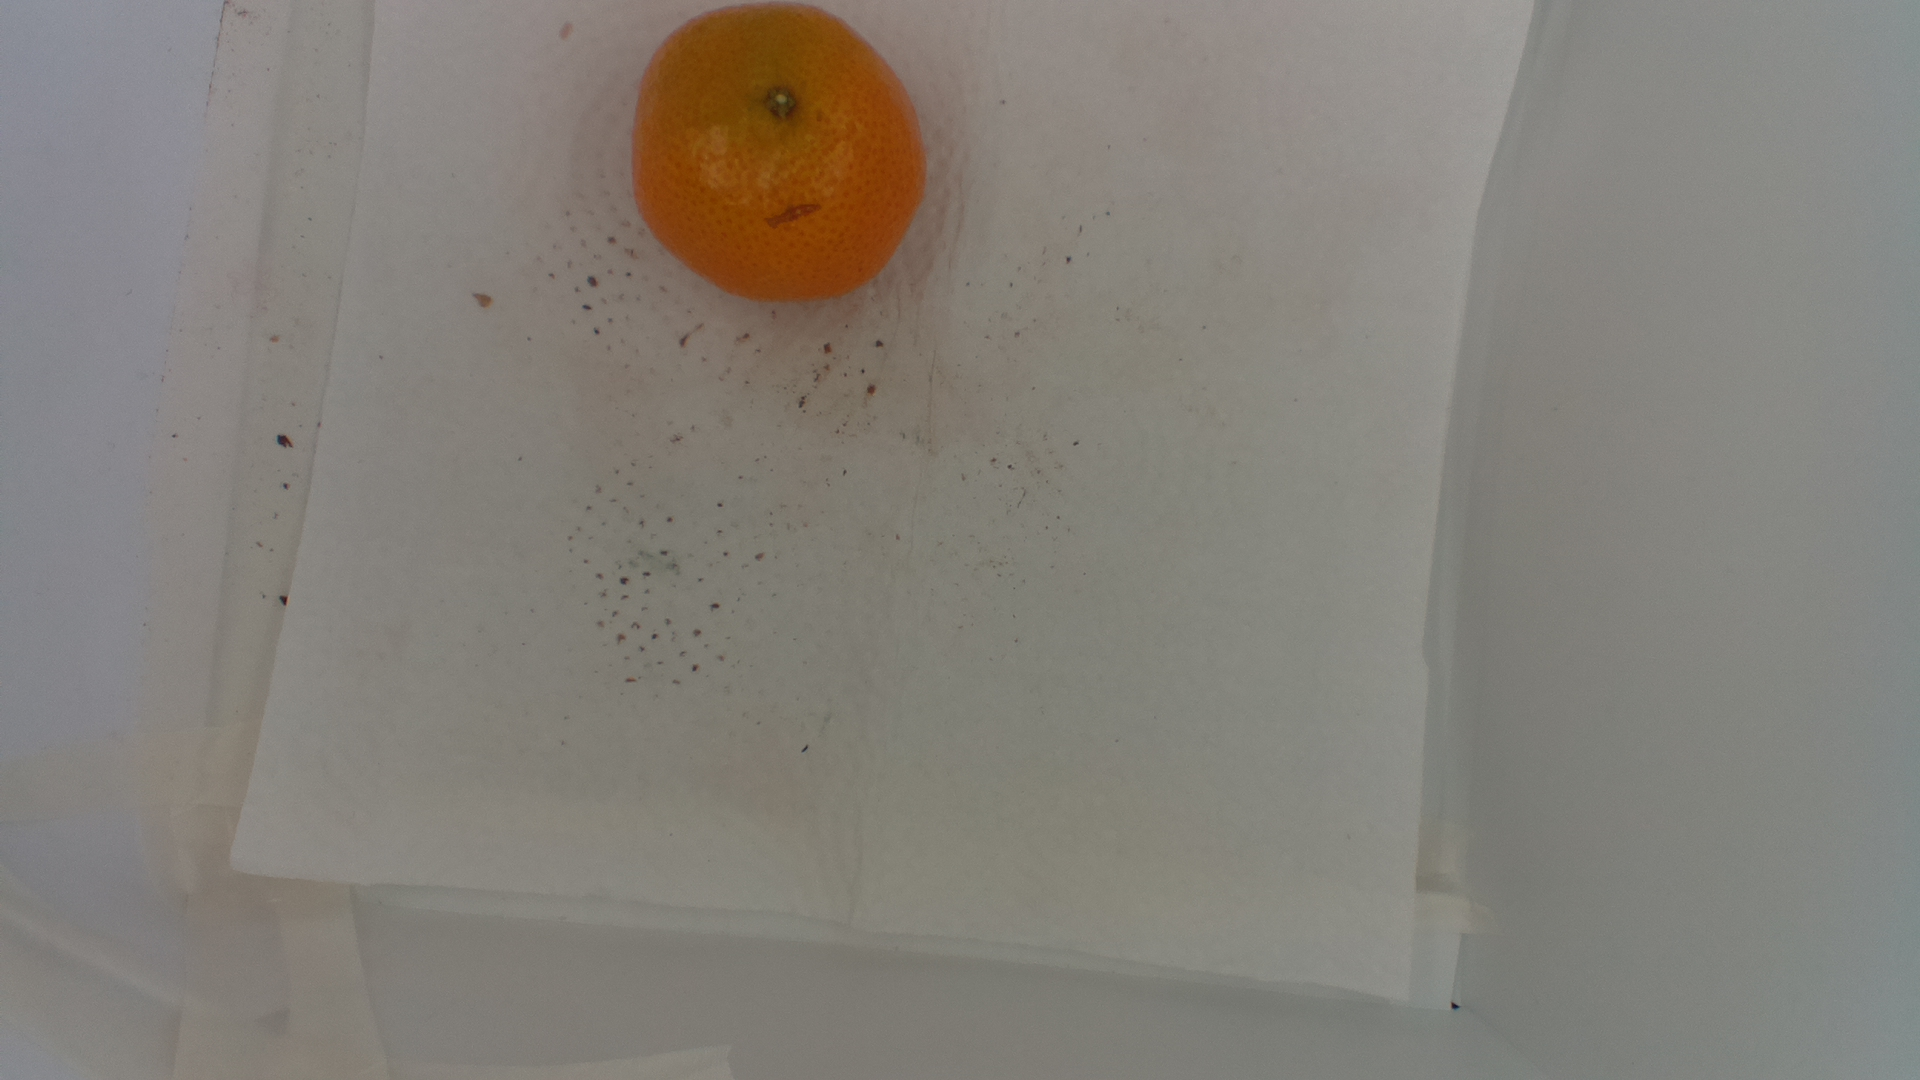fruit: (628, 1, 935, 309)
